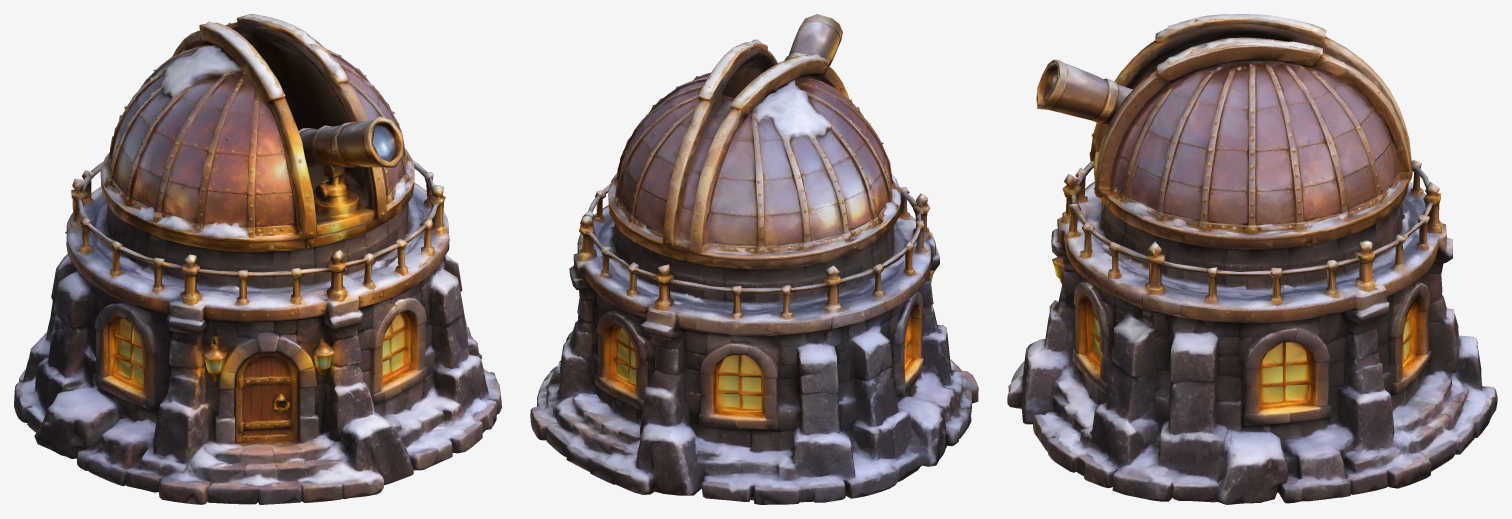
The model's file is observatory.glb.
The picture shows the model from 3 angles, left to right: view 1: azimuth 30°, elevation 25°; view 2: azimuth 150°, elevation 25°; view 3: azimuth 270°, elevation 25°; orthographic projection. The views are drawn at different scales.
Visible parts, largest first — view 1: tripo_node_206d6d18-8df3-4edb-8fbb-e42980680b00; view 2: tripo_node_206d6d18-8df3-4edb-8fbb-e42980680b00; view 3: tripo_node_206d6d18-8df3-4edb-8fbb-e42980680b00.
Boxes of the visible parts, box(x1,y1,x2,y2) form: tripo_node_206d6d18-8df3-4edb-8fbb-e42980680b00: box(14, 14, 501, 504); tripo_node_206d6d18-8df3-4edb-8fbb-e42980680b00: box(530, 14, 978, 504); tripo_node_206d6d18-8df3-4edb-8fbb-e42980680b00: box(1007, 14, 1497, 504).
Bounding box in the file's own units: 0.9981 × 0.8541 × 1.
1 material, 1 textured.
